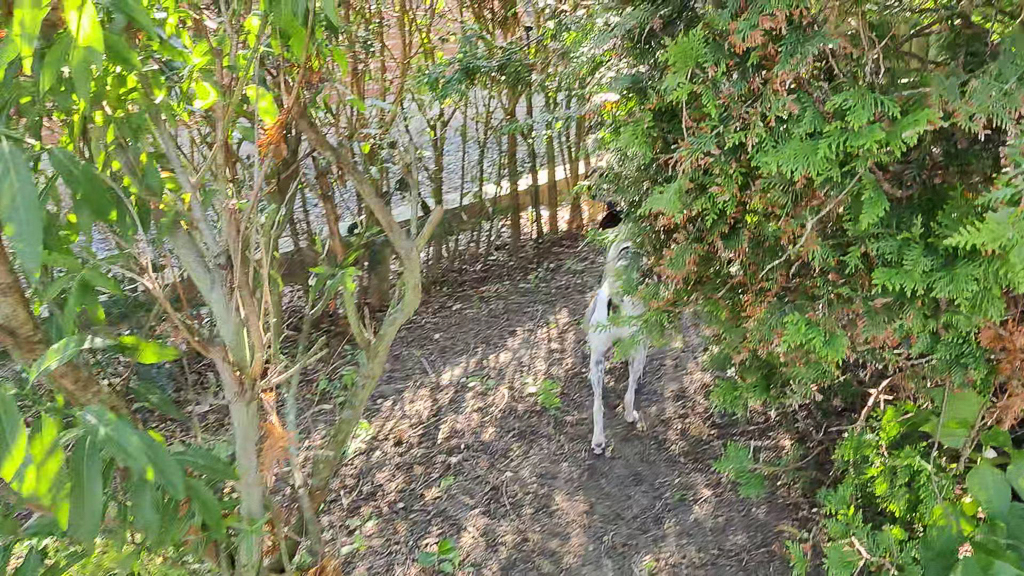Dog: (568, 167, 681, 461)
